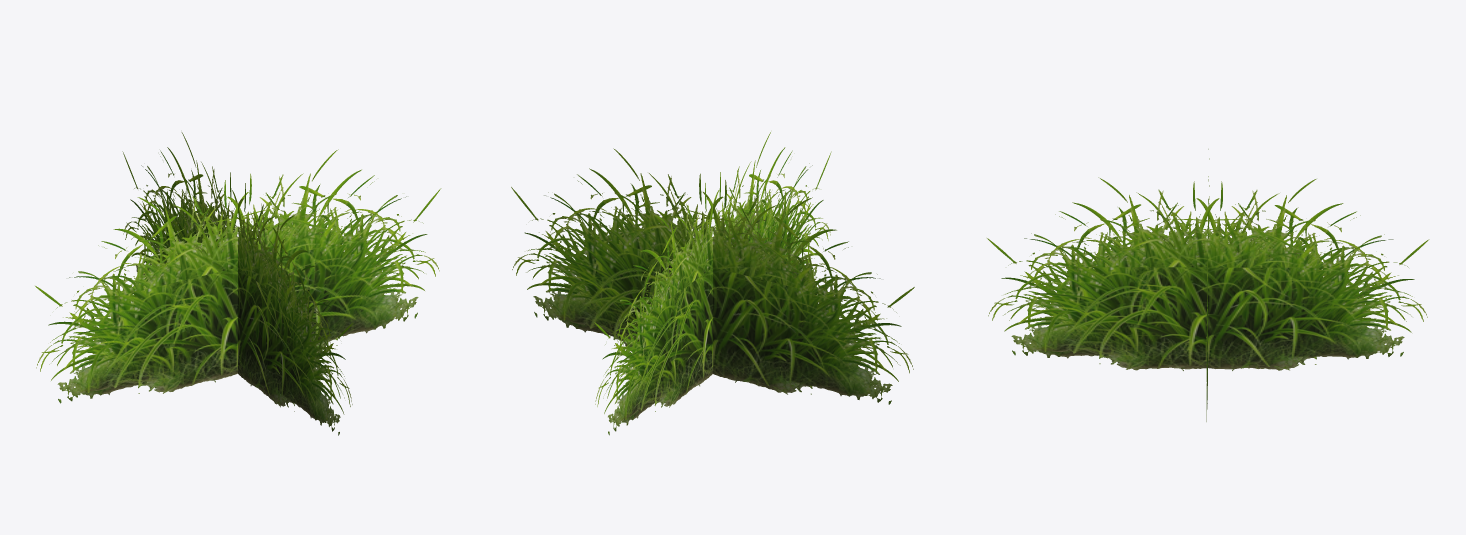
File: grass7.fbx
3 views of the same model, side by side, from view 1: azimuth 30°, elevation 25°; view 2: azimuth 150°, elevation 25°; view 3: azimuth 270°, elevation 25° (orthographic). The views are drawn at different scales.
Visible parts, largest first — view 1: grass7; view 2: grass7; view 3: grass7.
Part boxes in pixels (x1=…): grass7: x1=35, y1=132, x2=441, y2=435; grass7: x1=511, y1=132, x2=914, y2=435; grass7: x1=987, y1=149, x2=1429, y2=421.
Bounding box in the file's own units: 107 × 73.25 × 107.
Materials: 1 (1 with a texture image).
